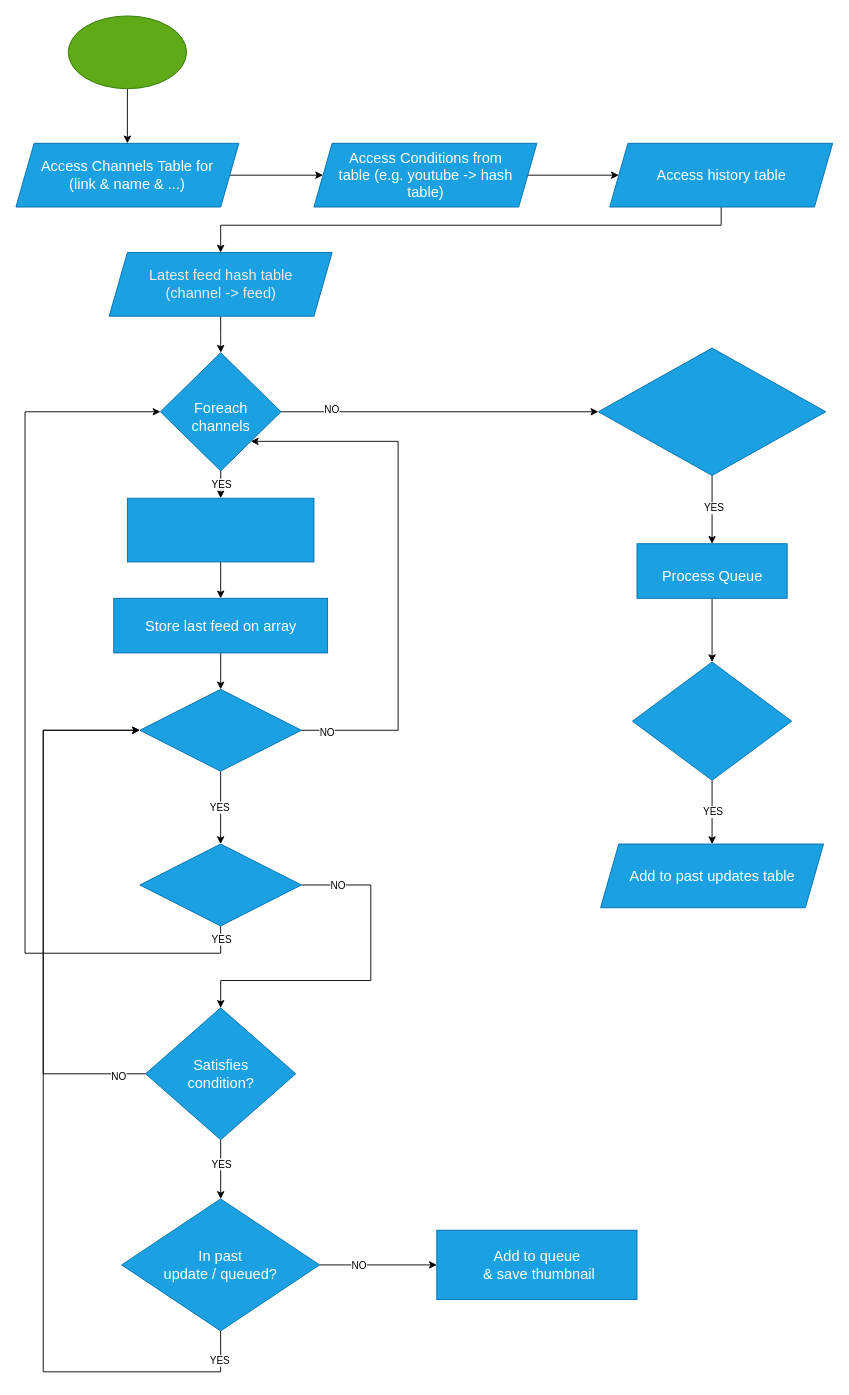
This 849x1395 diagram has some shape labels left out. The shapes that lost their labels are listed below. From the top down, each one's box as (x1, y1, x2, y2) in pixels, then its label:
(67, 15, 187, 89): START
(597, 347, 826, 475): Foreach queue (Concurrently)
(126, 497, 314, 562): Fetch feed data (name, desc, ...) from rss link
(139, 688, 301, 771): Foreach feeds
(632, 661, 792, 780): Success?
(139, 843, 301, 926): Too old?
